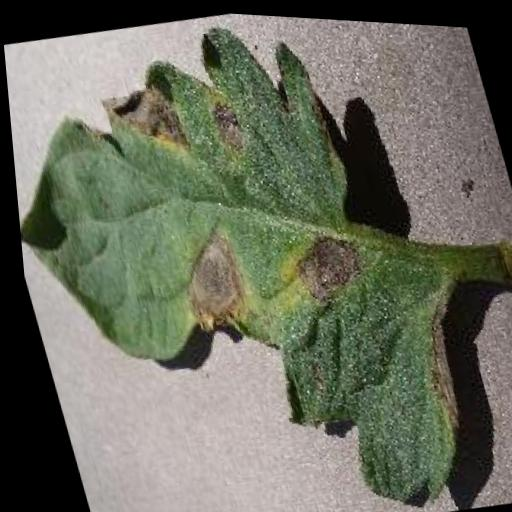Early Blight: (0, 0, 499, 512)
